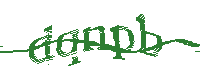b: (137, 14, 163, 58)
d: (28, 24, 53, 64)
n: (82, 23, 108, 52)
p: (110, 24, 134, 61)
q: (57, 28, 82, 66)
